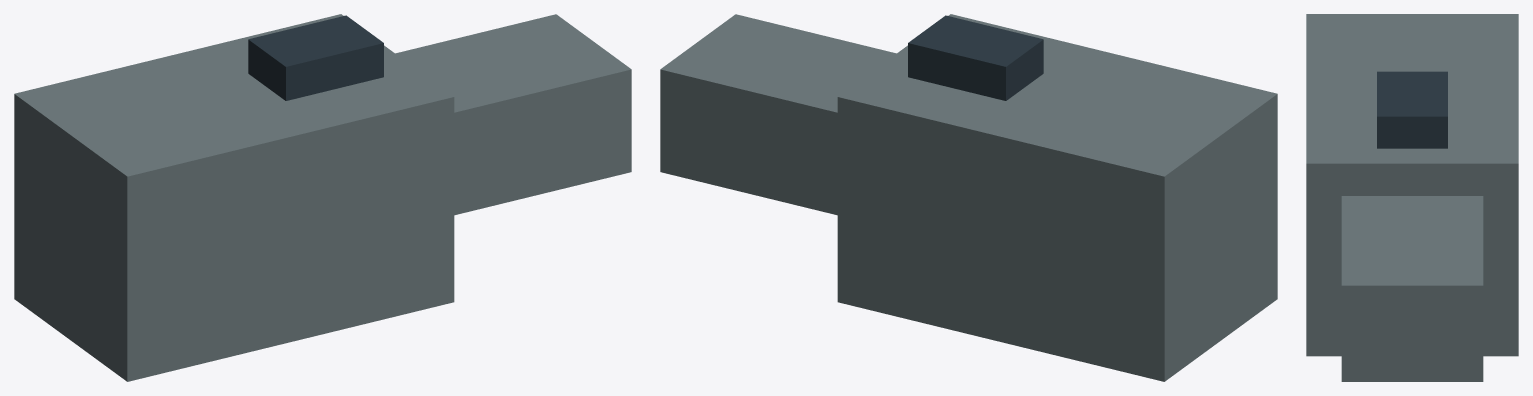
File: sports-12.glb
The picture shows the model from 3 angles, left to right: view 1: azimuth 30°, elevation 25°; view 2: azimuth 150°, elevation 25°; view 3: azimuth 270°, elevation 25°; orthographic projection. The views are drawn at different scales.
Visible parts, largest first — view 1: Whistle; view 2: Whistle; view 3: Whistle.
Part boxes in pixels (<box>): Whistle: <box>14,14,631,381</box>; Whistle: <box>660,14,1277,381</box>; Whistle: <box>1306,14,1518,381</box>.
Bounding box in the file's own units: 1.28 × 0.56 × 0.48.
